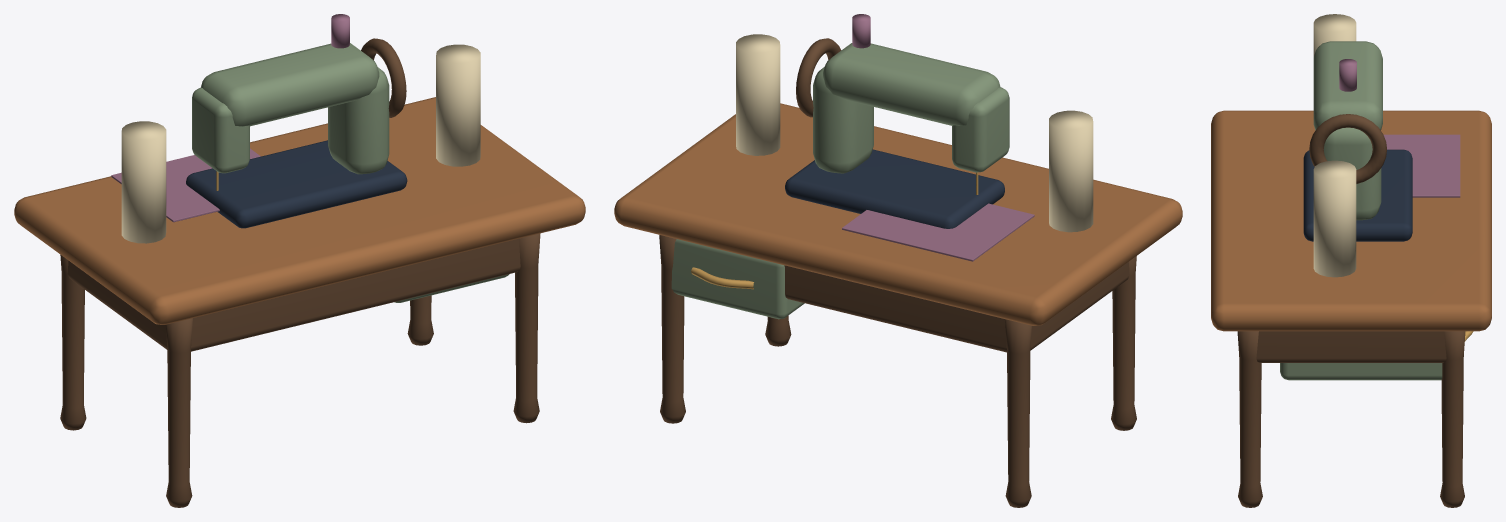
The model's file is sewing_table.glb.
3 renders of one model, left to right at view 1: azimuth 30°, elevation 25°; view 2: azimuth 150°, elevation 25°; view 3: azimuth 270°, elevation 25°, orthographic. The views are drawn at different scales.
Visible parts, largest first — view 1: House07_sewing_table; view 2: House07_sewing_table; view 3: House07_sewing_table.
Part boxes in pixels (bbox=[...]): House07_sewing_table: bbox=[14, 14, 585, 507]; House07_sewing_table: bbox=[614, 14, 1182, 507]; House07_sewing_table: bbox=[1211, 14, 1491, 507].
Size of the model in its own units: 1.45 by 1.26 by 0.85.
